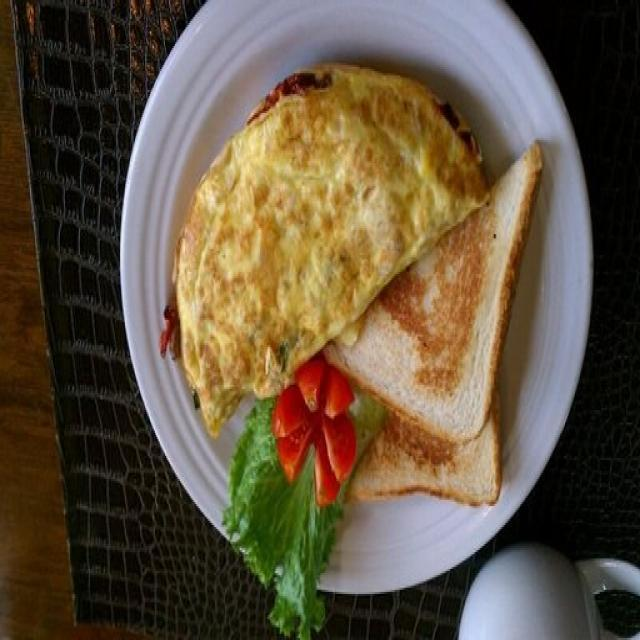telur_ayam_dadar: (174, 53, 463, 386)
